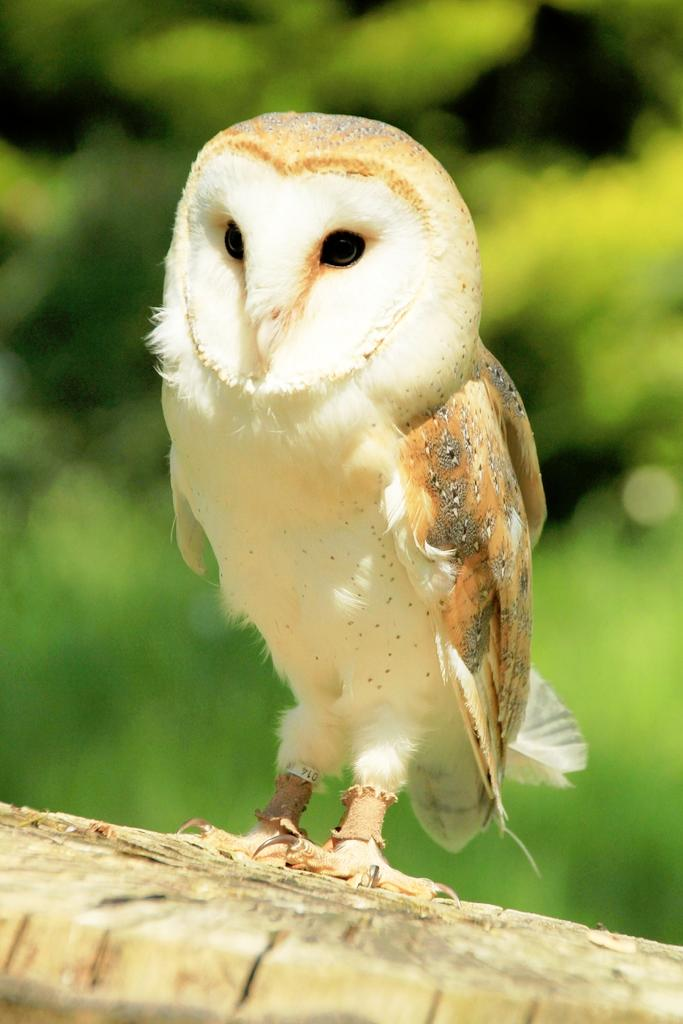Owl: (145, 109, 603, 894)
